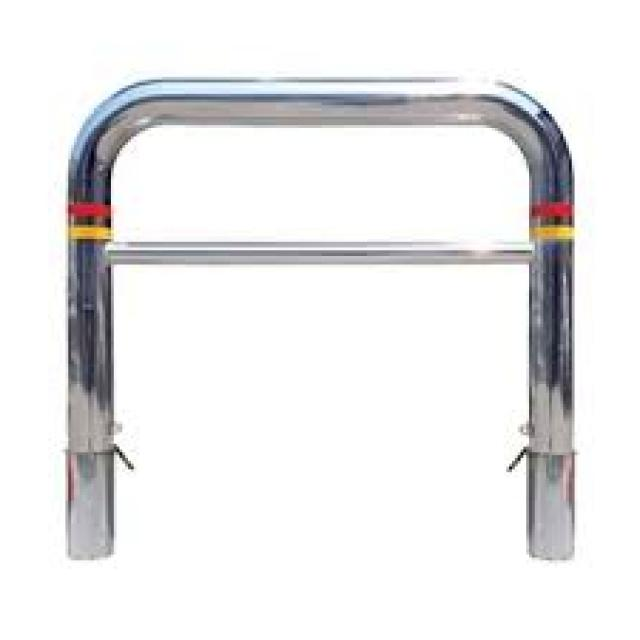bollard: (50, 67, 586, 584)
